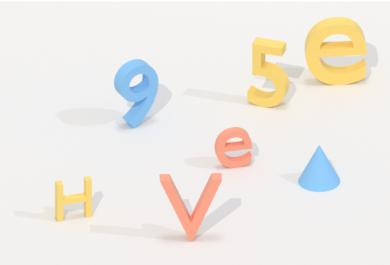0-TamGiac: (294, 141, 344, 198)
5: (244, 32, 293, 113)
9: (112, 55, 162, 131)
H: (53, 172, 95, 225)
V: (156, 168, 225, 244)
e: (298, 13, 374, 89), (212, 121, 256, 171)
